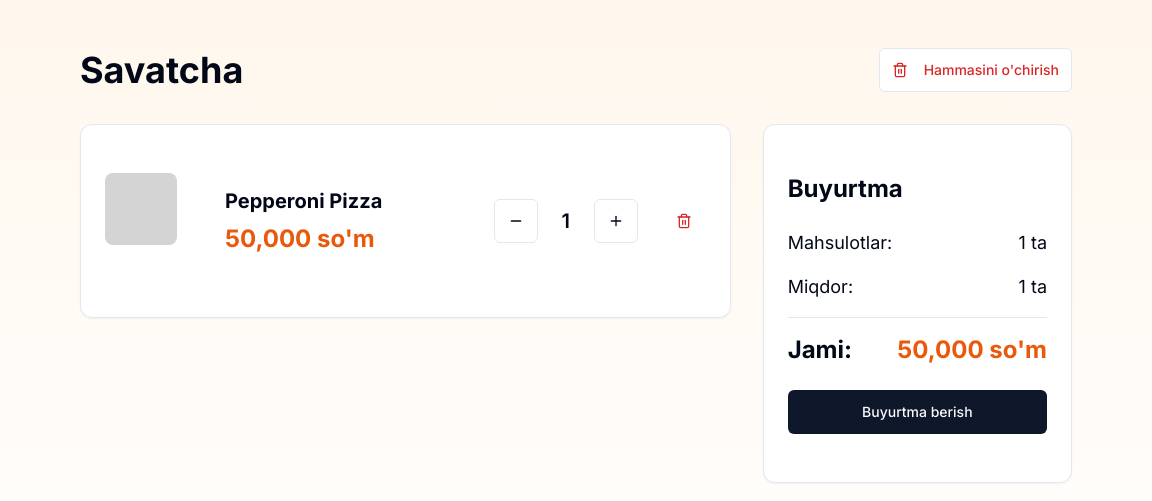
Scenario: CartPage › should clear cart when Hammasini o'chirish clicked
The image size is (1152, 501).
Expected: the heading "Pepperoni Pizza" is shown, top-left (225, 189), bottom-right (382, 213)
Click the button "Hammasini o'chirish".
click(975, 70)  # box top-left (879, 48), bottom-right (1072, 92)
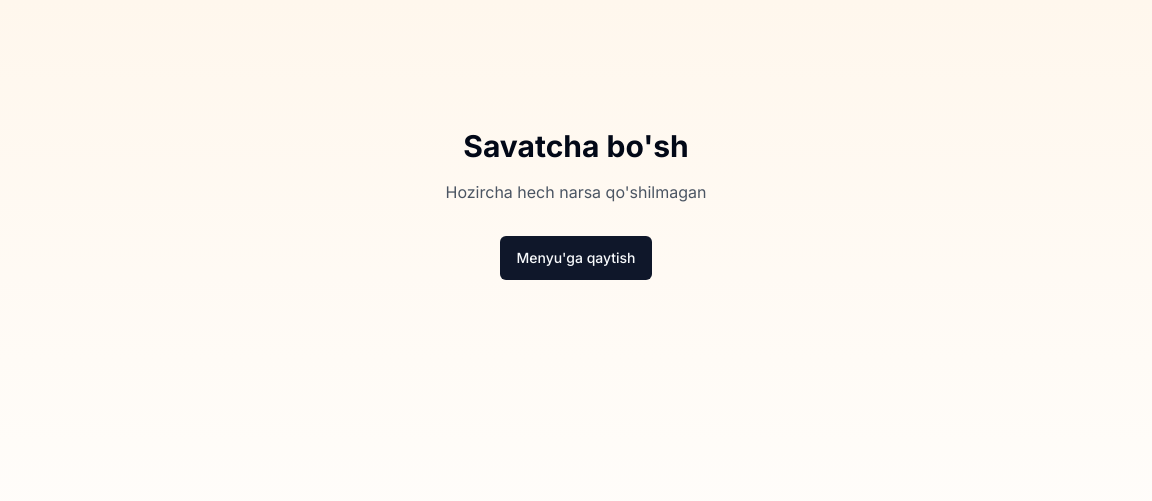
Now the heading "Savatcha bo'sh" is shown, box top-left (463, 128), bottom-right (689, 164)
